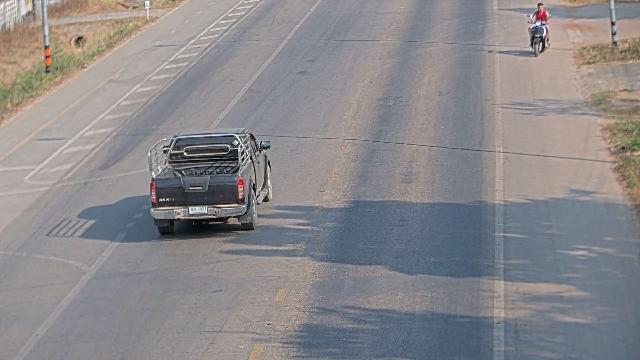motorcycle: (529, 12, 550, 55)
pickup-truck: (147, 127, 273, 235)
